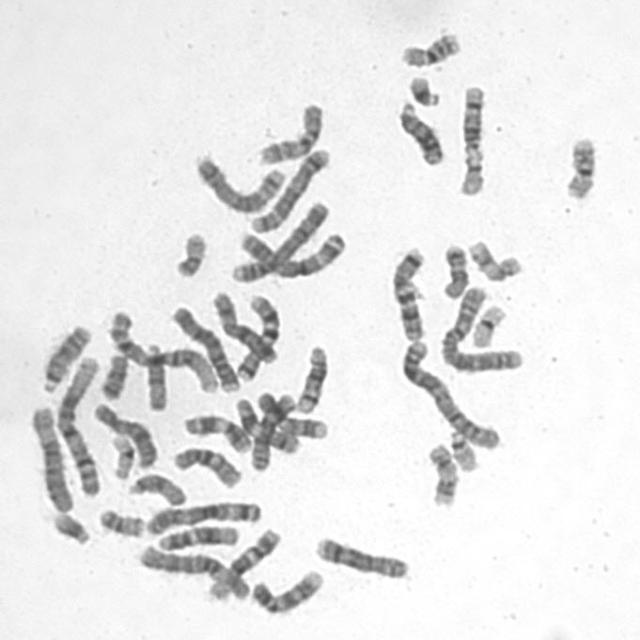A1: (102, 304, 224, 394), (51, 350, 102, 498)
A2: (394, 334, 504, 452), (435, 283, 527, 374)
A3: (228, 226, 350, 282), (140, 495, 264, 537)
B4: (226, 194, 334, 284), (166, 299, 242, 394)
B5: (244, 141, 334, 235), (189, 148, 287, 214)
C10: (252, 96, 326, 167), (168, 440, 245, 490)
C11: (228, 392, 302, 457), (178, 408, 254, 455)
C12: (202, 522, 283, 603), (152, 520, 242, 552)
C6: (132, 539, 252, 603), (25, 399, 76, 513)
C7: (231, 288, 283, 383), (386, 239, 430, 344)
C8: (309, 530, 412, 580), (244, 389, 298, 473)
C9: (251, 386, 331, 441), (245, 563, 326, 616)
D13: (35, 318, 94, 394), (392, 93, 446, 168)
D14: (289, 338, 331, 414), (455, 78, 488, 158)
D15: (122, 467, 189, 507), (139, 337, 169, 412)
E16: (394, 25, 463, 69), (558, 130, 599, 201)
E17: (462, 233, 526, 283), (422, 437, 460, 510)
E18: (436, 237, 471, 300), (94, 346, 131, 401)
F19: (466, 298, 509, 349), (104, 428, 138, 481)
F20: (168, 226, 210, 280), (92, 503, 147, 539)
G21: (47, 507, 93, 547), (402, 69, 444, 108)
G22: (443, 423, 481, 473), (453, 147, 487, 196)
X: (206, 284, 282, 366), (86, 396, 160, 471)
